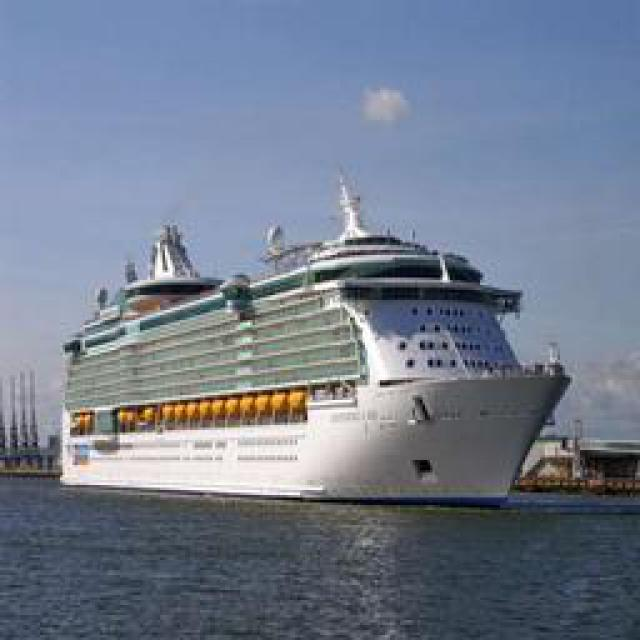Ship: (51, 185, 591, 498)
